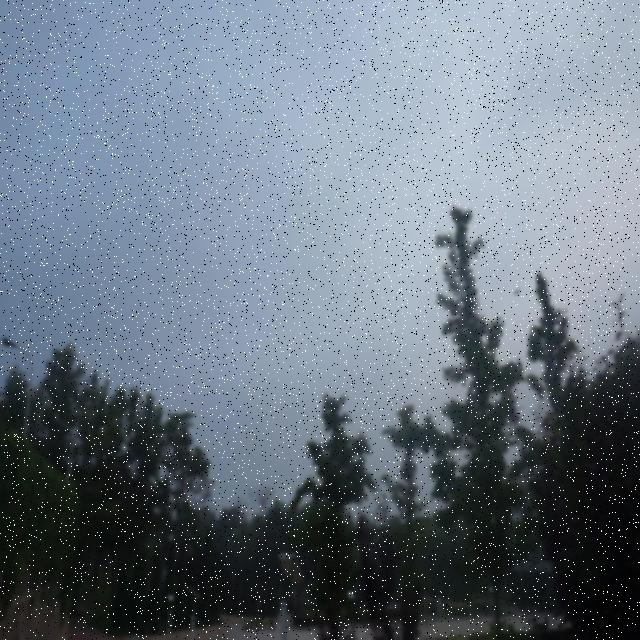UAV: (513, 286, 521, 296)
